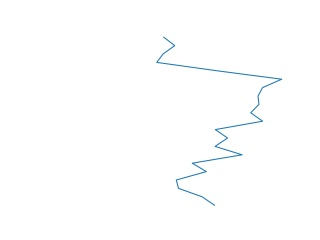floodPlain: (154, 34, 284, 208)
